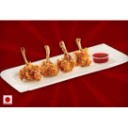chicken_lollipop: (16, 46, 42, 82), (41, 43, 61, 79), (55, 40, 77, 72), (73, 37, 92, 69)
